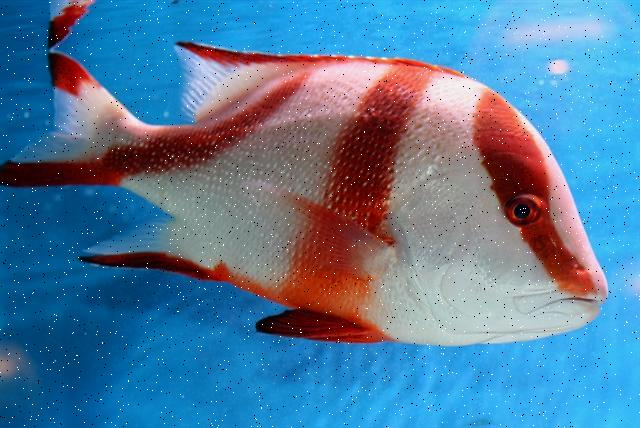Mulut: (479, 261, 627, 347)
Sirip Anal: (42, 206, 248, 310)
Sirip Dada: (224, 162, 410, 298)
Sirip Ekor: (1, 10, 134, 218)
Sirip Perut: (244, 290, 392, 372)
Sirip Punggung: (160, 19, 472, 138)
